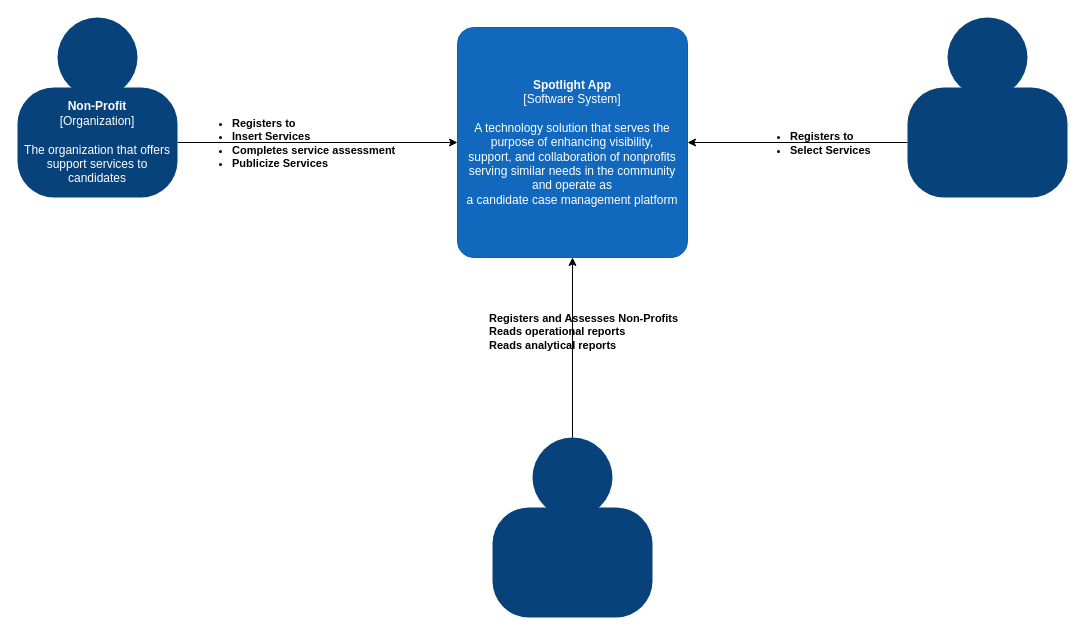
This 1085x635 diagram has some shape labels left out. Each missing label, with the box of its shape:
Administrator [Person] Assess Non-Profit services: (492, 506, 652, 618)
Candidate [Person] Takes advantages of Non-Profit services: (906, 86, 1068, 198)
